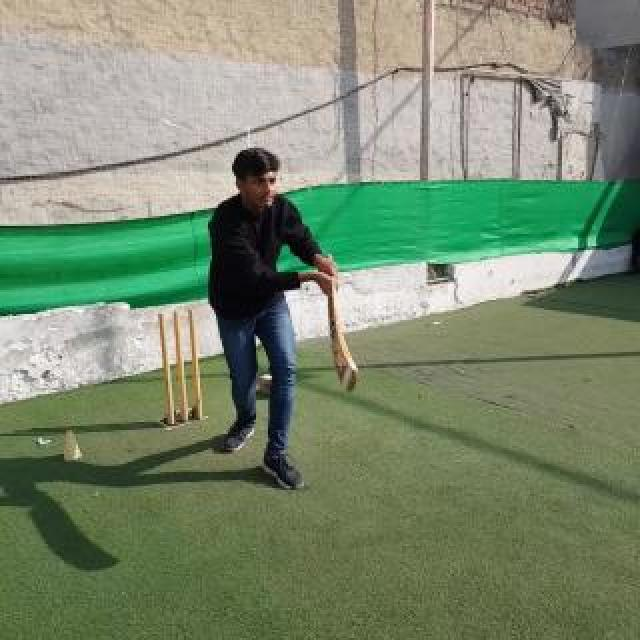bat: (326, 254, 360, 392)
